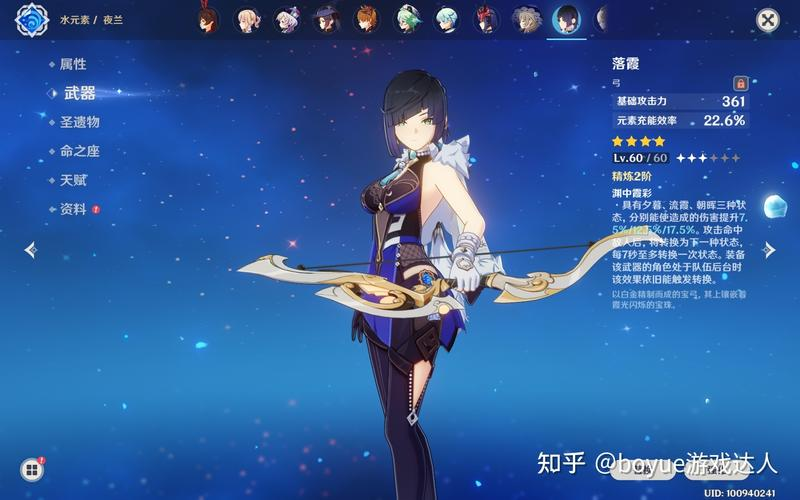夜兰: (348, 65, 489, 500)
